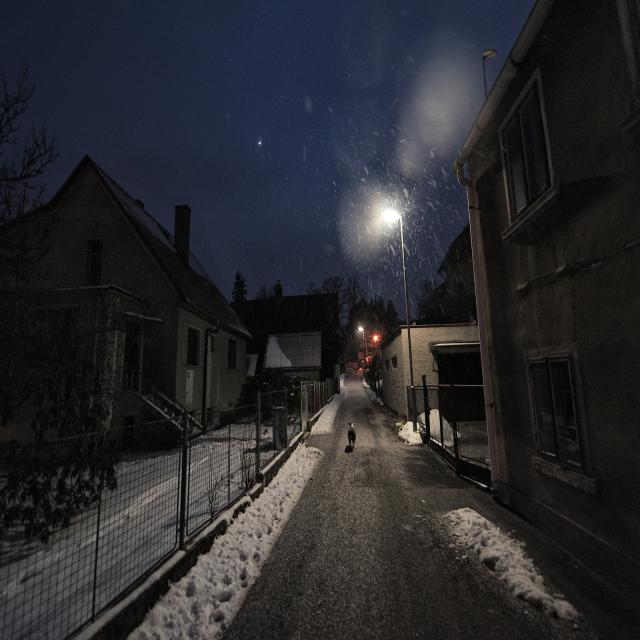Dog: (346, 420, 358, 450)
